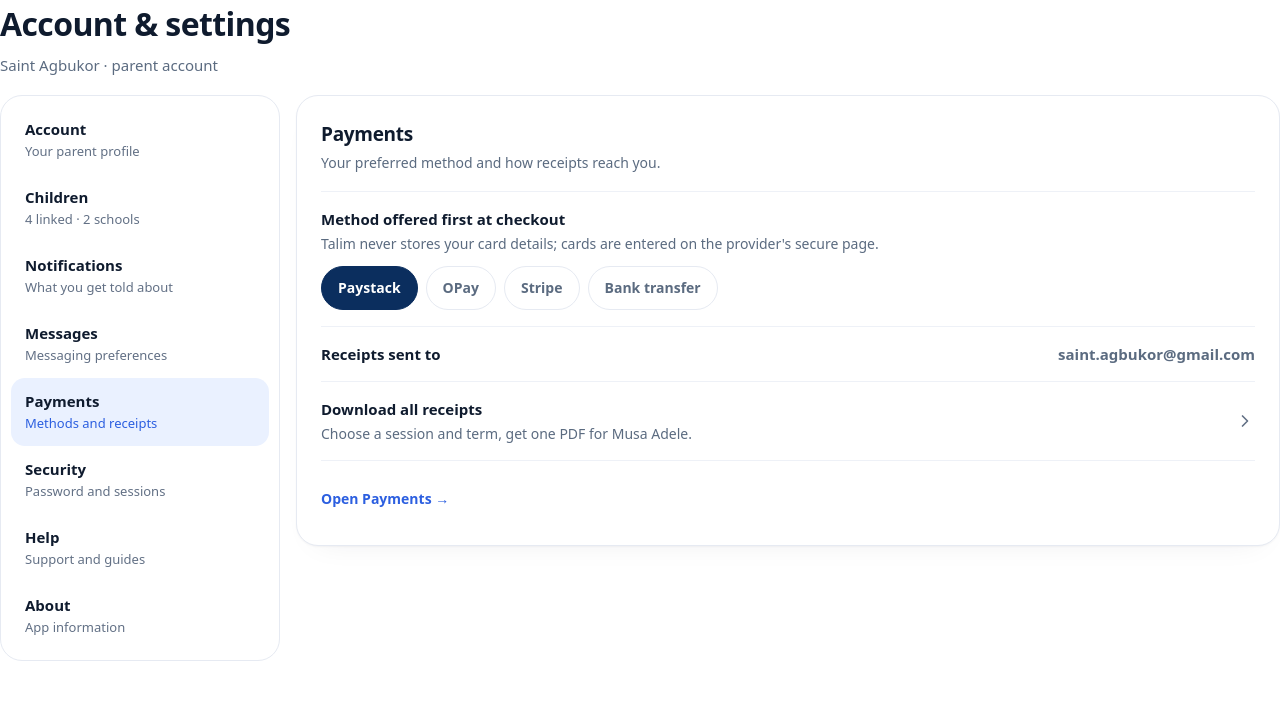
Settings (fixtures) › Payments: preferred method and the term receipts download, no card form
The image size is (1280, 720).
Click the button "OPay" at (461, 288), box [426,266,496,310]
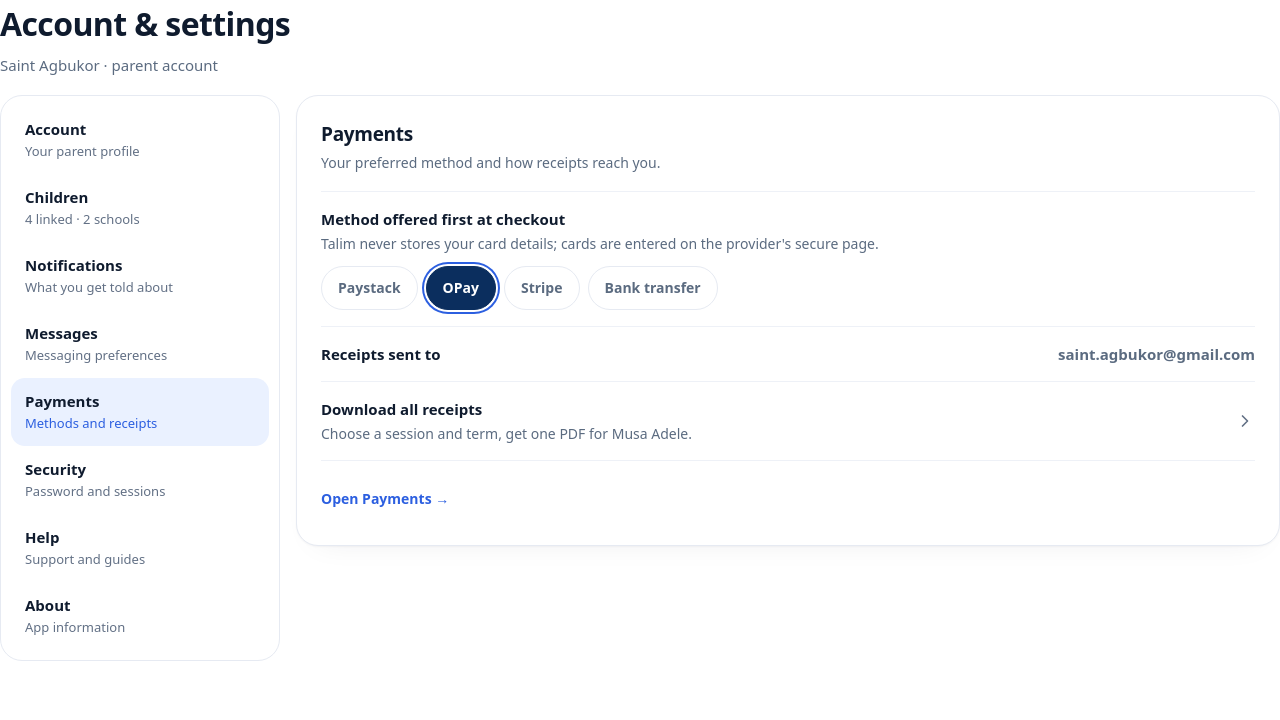
Click the button "Download all receipts" at (402, 409), box [321,381,1255,460]
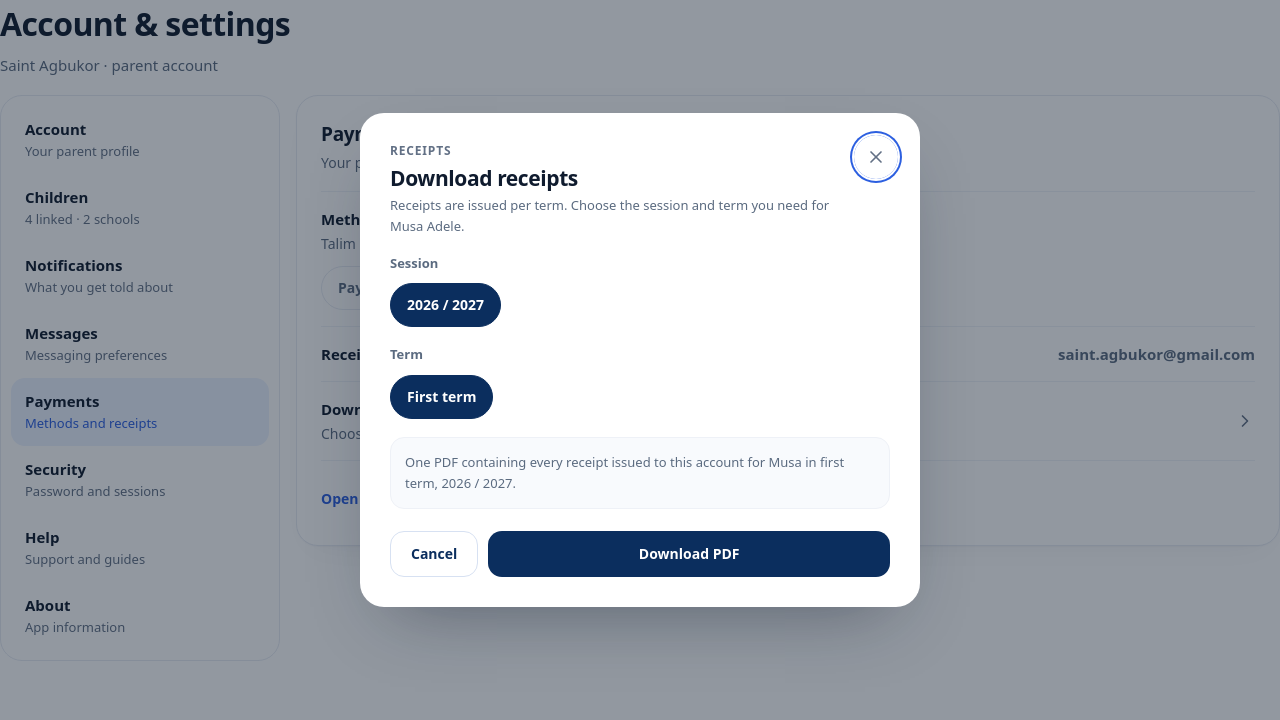
Result: the dialog "Download receipts" is shown at [360,113,920,607]
